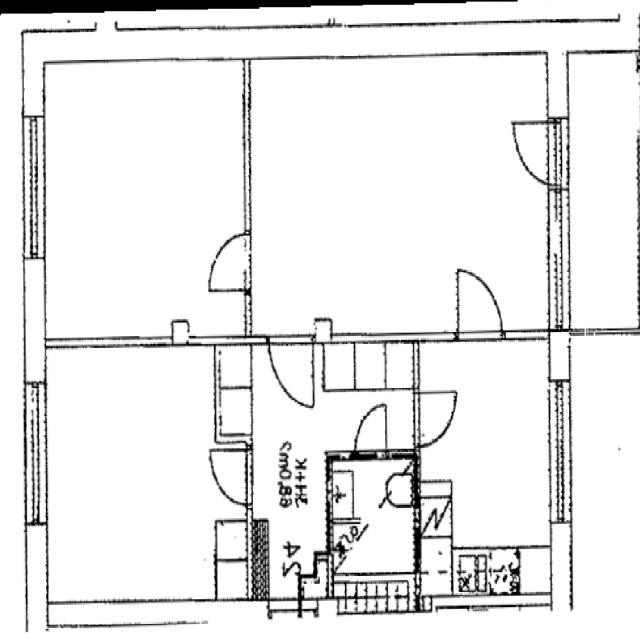door: (506, 121, 571, 186), (268, 335, 314, 411), (458, 270, 503, 344), (207, 233, 252, 290), (414, 392, 456, 445), (211, 449, 252, 502), (355, 402, 387, 461)
